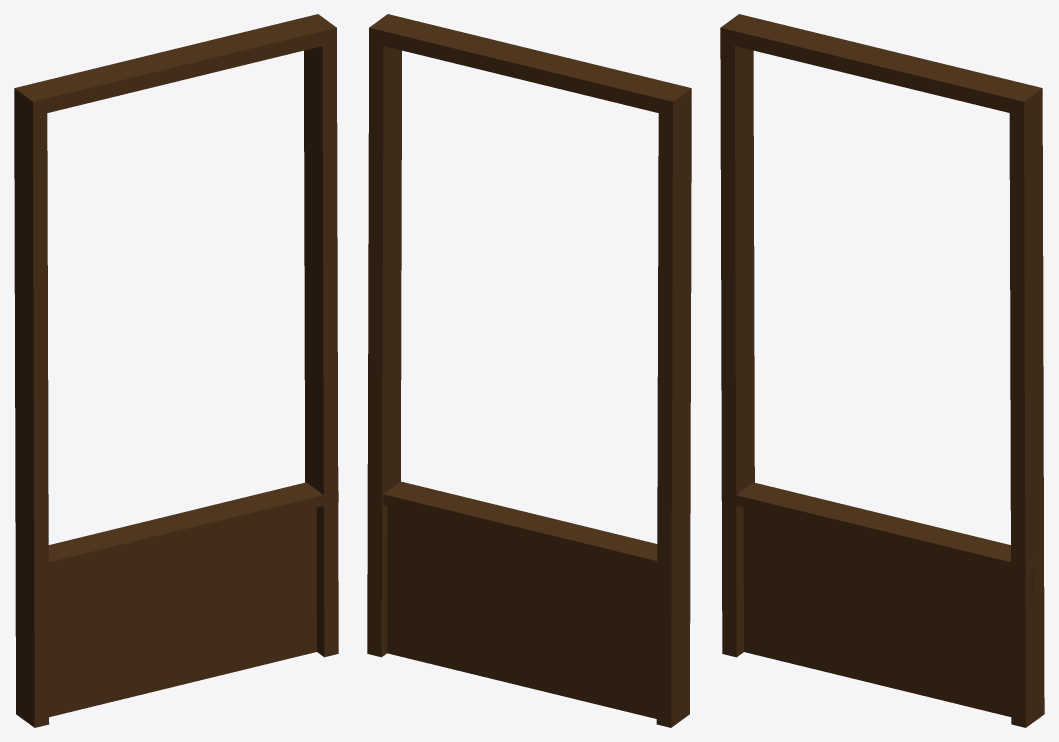
File: Window.glb
3 views of the same model, side by side, from view 1: azimuth 30°, elevation 25°; view 2: azimuth 150°, elevation 25°; view 3: azimuth 330°, elevation 25° (orthographic).
Visible parts, largest first — view 1: Single_Plank.002, Window_Frame_left, Window_Frame_left.001, Window_Frame_top, Single_Plank.003; view 2: Single_Plank.002, Window_Frame_left, Window_Frame_left.001, Window_Frame_top, Single_Plank.003; view 3: Single_Plank.002, Window_Frame_left.001, Window_Frame_left, Window_Frame_top, Single_Plank.003.
Boxes of the visible parts, x1=… form: Single_Plank.002: x1=48, y1=507, x2=316, y2=717; Window_Frame_left: x1=14, y1=103, x2=49, y2=727; Window_Frame_left.001: x1=304, y1=42, x2=338, y2=657; Window_Frame_top: x1=14, y1=14, x2=336, y2=116; Single_Plank.003: x1=34, y1=482, x2=338, y2=575; Single_Plank.002: x1=387, y1=506, x2=657, y2=718; Window_Frame_left: x1=656, y1=103, x2=691, y2=727; Window_Frame_left.001: x1=367, y1=42, x2=401, y2=657; Window_Frame_top: x1=369, y1=14, x2=691, y2=116; Single_Plank.003: x1=383, y1=481, x2=657, y2=571; Single_Plank.002: x1=743, y1=508, x2=1038, y2=721; Window_Frame_left.001: x1=1009, y1=103, x2=1044, y2=727; Window_Frame_left: x1=720, y1=42, x2=754, y2=657; Window_Frame_top: x1=720, y1=14, x2=1042, y2=116; Single_Plank.003: x1=722, y1=482, x2=1043, y2=576.
Bounding box in the file's own units: 1.51 × 2.96 × 0.1603.
